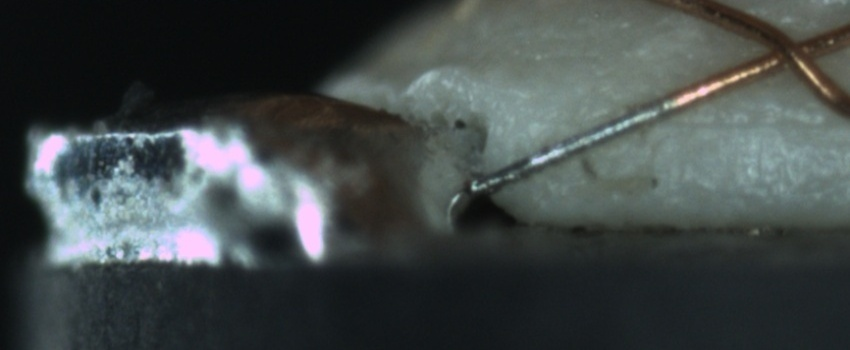CL: (745, 16, 835, 82)
DL: (636, 95, 845, 153)
TS: (462, 100, 665, 198)
